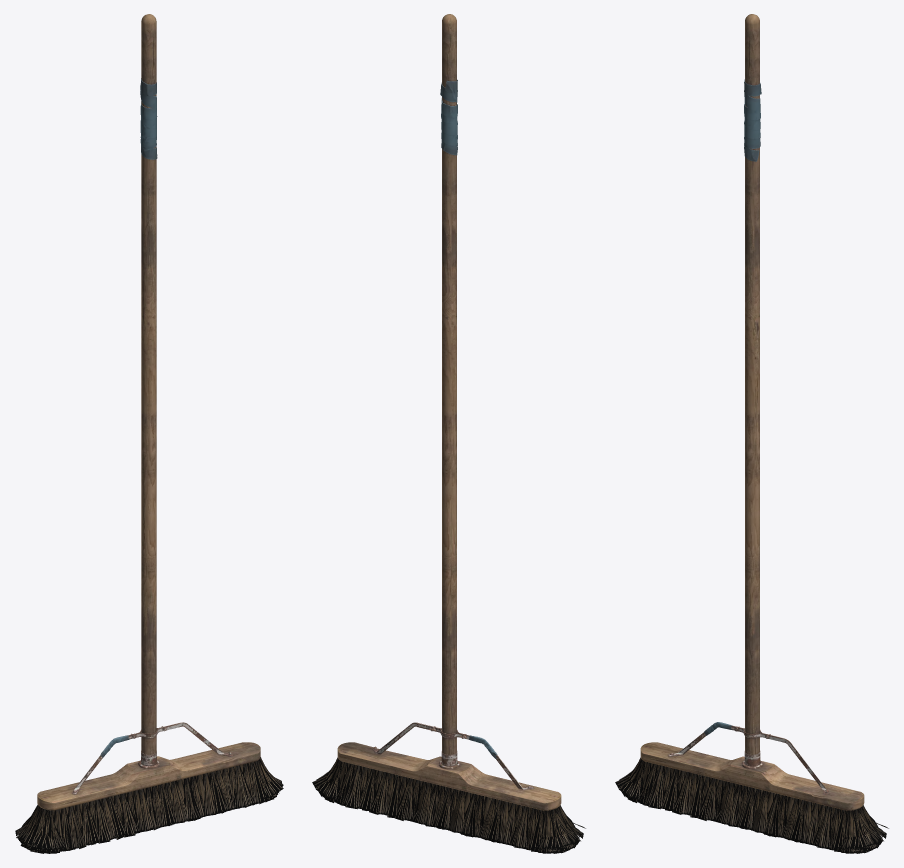
File: wooden_broom.glb
3 renders of one model, left to right at view 1: azimuth 30°, elevation 25°; view 2: azimuth 150°, elevation 25°; view 3: azimuth 330°, elevation 25°, orthographic.
Parts seen in each view (by area): view 1: wooden_broom_handle, wooden_broom_bristles; view 2: wooden_broom_handle, wooden_broom_bristles; view 3: wooden_broom_handle, wooden_broom_bristles.
Part boxes in pixels (bbox=[...]): wooden_broom_handle: bbox=[37, 14, 260, 810]; wooden_broom_bristles: bbox=[15, 757, 283, 853]; wooden_broom_handle: bbox=[337, 14, 561, 810]; wooden_broom_bristles: bbox=[312, 757, 585, 853]; wooden_broom_handle: bbox=[640, 14, 864, 810]; wooden_broom_bristles: bbox=[615, 757, 888, 853].
Size of the model in its own units: 0.4902 by 1.45 by 0.1125.
2 materials, 2 textured.
